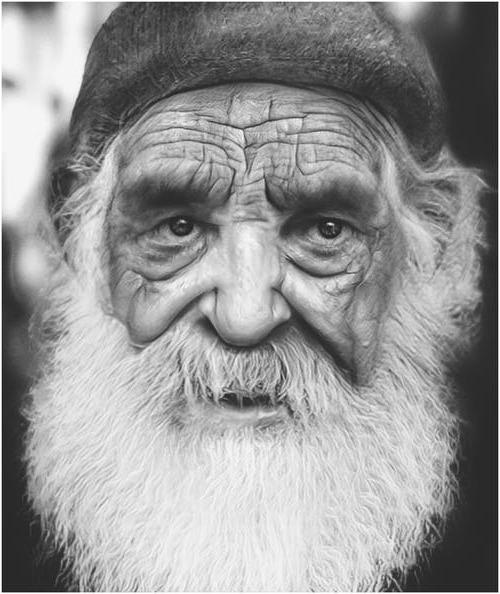Wrinkles: (124, 108, 202, 148), (129, 127, 242, 151), (346, 104, 393, 156), (137, 140, 241, 162), (351, 94, 394, 143), (207, 116, 307, 130), (295, 136, 328, 176), (299, 142, 363, 161), (263, 165, 282, 214), (365, 125, 385, 167), (327, 97, 364, 114), (362, 132, 380, 160), (336, 160, 367, 176), (191, 146, 204, 183), (353, 136, 373, 159), (205, 177, 228, 197), (286, 130, 351, 137), (223, 171, 236, 205), (256, 141, 294, 150), (237, 176, 263, 187), (247, 153, 257, 176), (215, 162, 236, 171), (348, 116, 362, 128), (302, 112, 342, 116), (207, 158, 212, 186), (227, 90, 232, 117), (243, 150, 248, 175), (308, 159, 337, 163), (297, 119, 304, 134), (268, 101, 273, 121), (194, 113, 213, 117), (242, 131, 247, 146), (325, 120, 344, 123), (314, 147, 318, 160)
